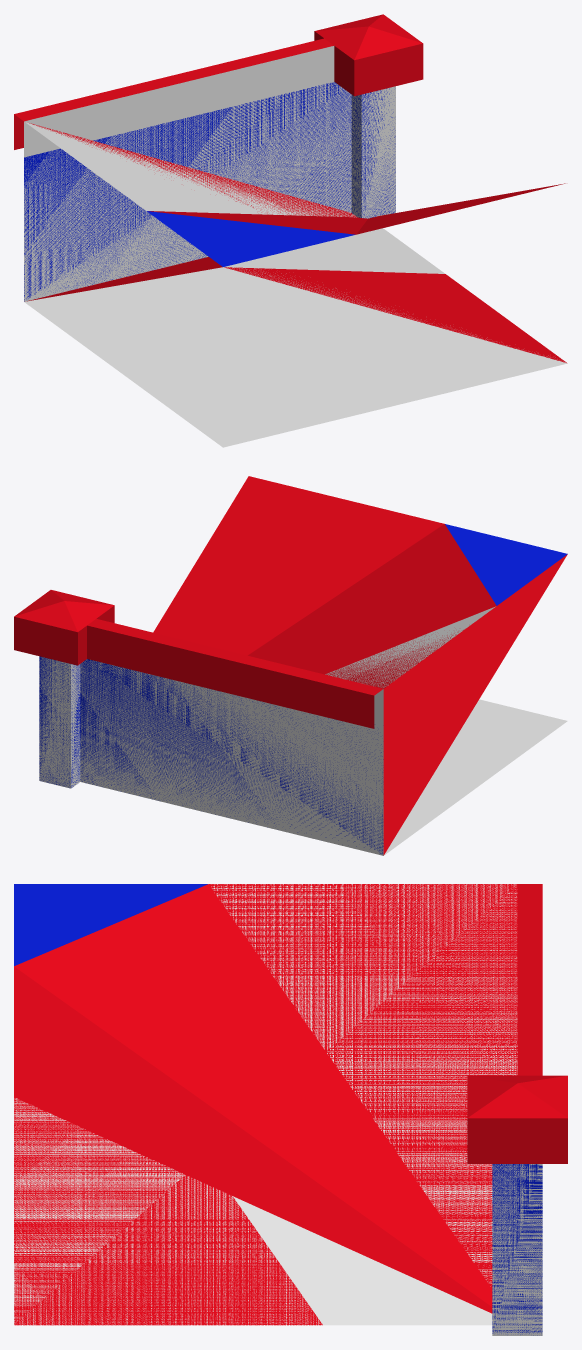
Rendered from Ground.fbx.
3 views of the same model, one above another, from view 1: azimuth 30°, elevation 25°; view 2: azimuth 150°, elevation 25°; view 3: azimuth 270°, elevation 25° (orthographic). The views are drawn at different scales.
Visible parts, largest first — view 1: Floor, Wall, WallTop, Raised, InnerCorner, Corner, WallPillarTop, WallPillar; view 2: InnerCorner, Wall, WallTop, Corner, Floor, WallPillarTop, WallPillar, Raised; view 3: InnerCorner, Raised, Corner, WallPillarTop, WallPillar, WallTop.
Part boxes in pixels (left/top/right/bottom): Floor: left=24, top=267, right=567, bottom=447; Wall: left=24, top=46, right=351, bottom=301; WallTop: left=14, top=38, right=351, bottom=301; Raised: left=25, top=122, right=565, bottom=362; InnerCorner: left=29, top=123, right=565, bottom=266; Corner: left=27, top=257, right=566, bottom=362; WallPillarTop: left=314, top=14, right=423, bottom=218; WallPillar: left=351, top=86, right=395, bottom=218; InnerCorner: left=153, top=476, right=567, bottom=688; Wall: left=80, top=659, right=383, bottom=855; WallTop: left=80, top=619, right=383, bottom=853; Corner: left=383, top=554, right=567, bottom=855; Floor: left=384, top=699, right=567, bottom=855; WallPillarTop: left=14, top=590, right=114, bottom=787; WallPillar: left=39, top=656, right=80, bottom=788; Raised: left=325, top=606, right=495, bottom=687; InnerCorner: left=14, top=884, right=517, bottom=1313; Raised: left=14, top=884, right=517, bottom=1325; Corner: left=14, top=1097, right=322, bottom=1325; WallPillarTop: left=467, top=1075, right=567, bottom=1335; WallPillar: left=492, top=1164, right=542, bottom=1335; WallTop: left=517, top=884, right=542, bottom=1075.
Size of the model in its own units: 1.1 by 1.1 by 0.53.
